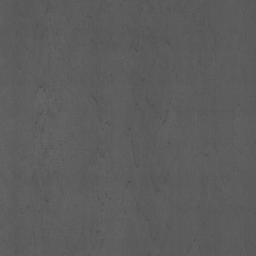Silk spot: (40, 143, 54, 157), (32, 117, 44, 133), (37, 108, 55, 118), (35, 82, 49, 94)
